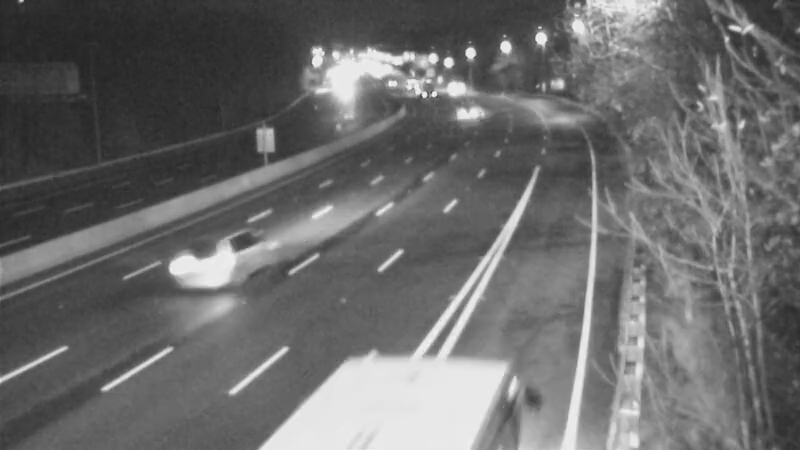vehicle: (173, 212, 253, 292), (430, 65, 480, 115), (404, 67, 454, 117), (450, 82, 500, 132)
